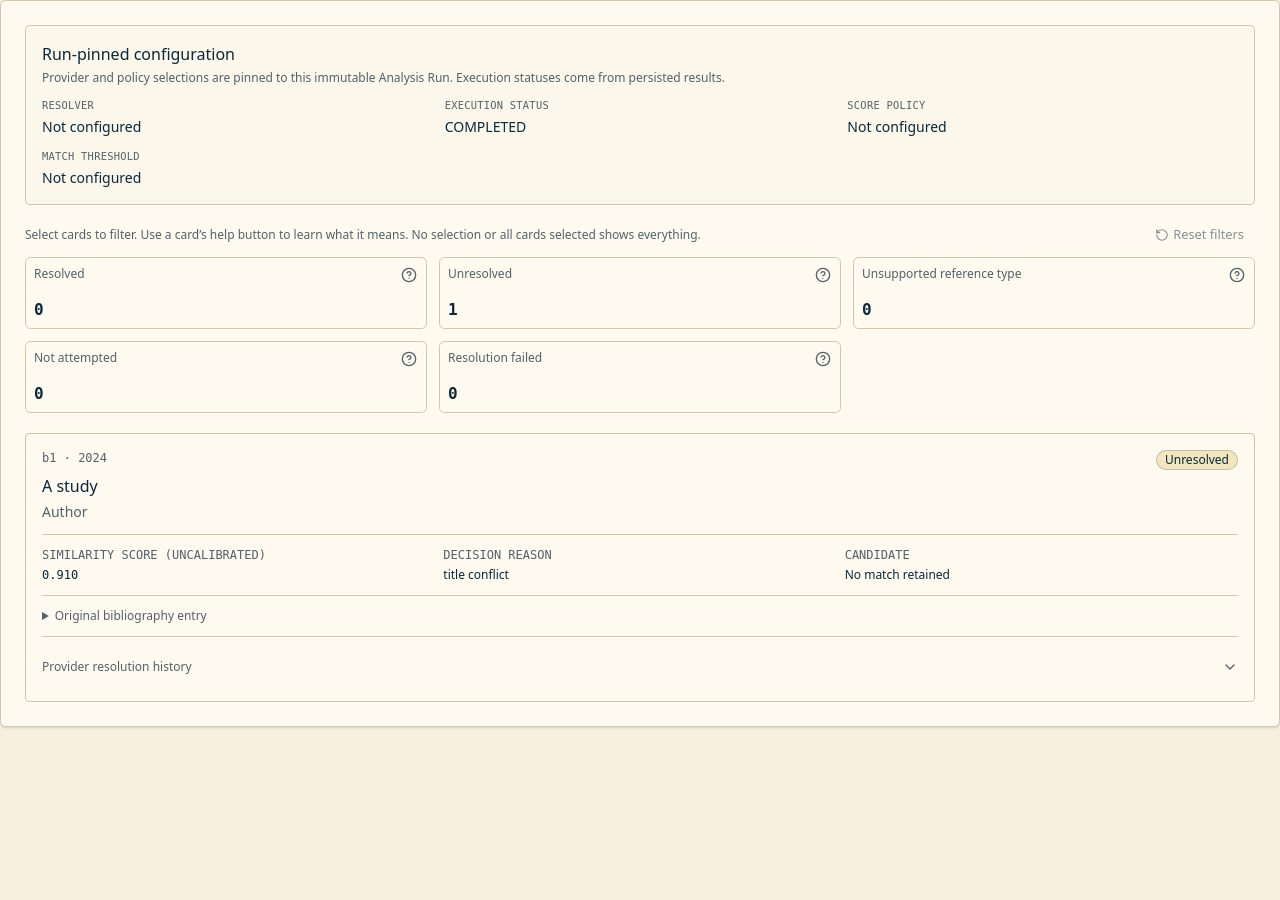
Scenario: Analysis Run bibliography display keys › explains unresolved matches by their recorded cause and labels ranking scores as uncalibrated
The width and height of the screenshot is (1280, 900).
Click the button named "Explain Unresolved" at {"x": 823, "y": 275}, box [809,261,837,289]
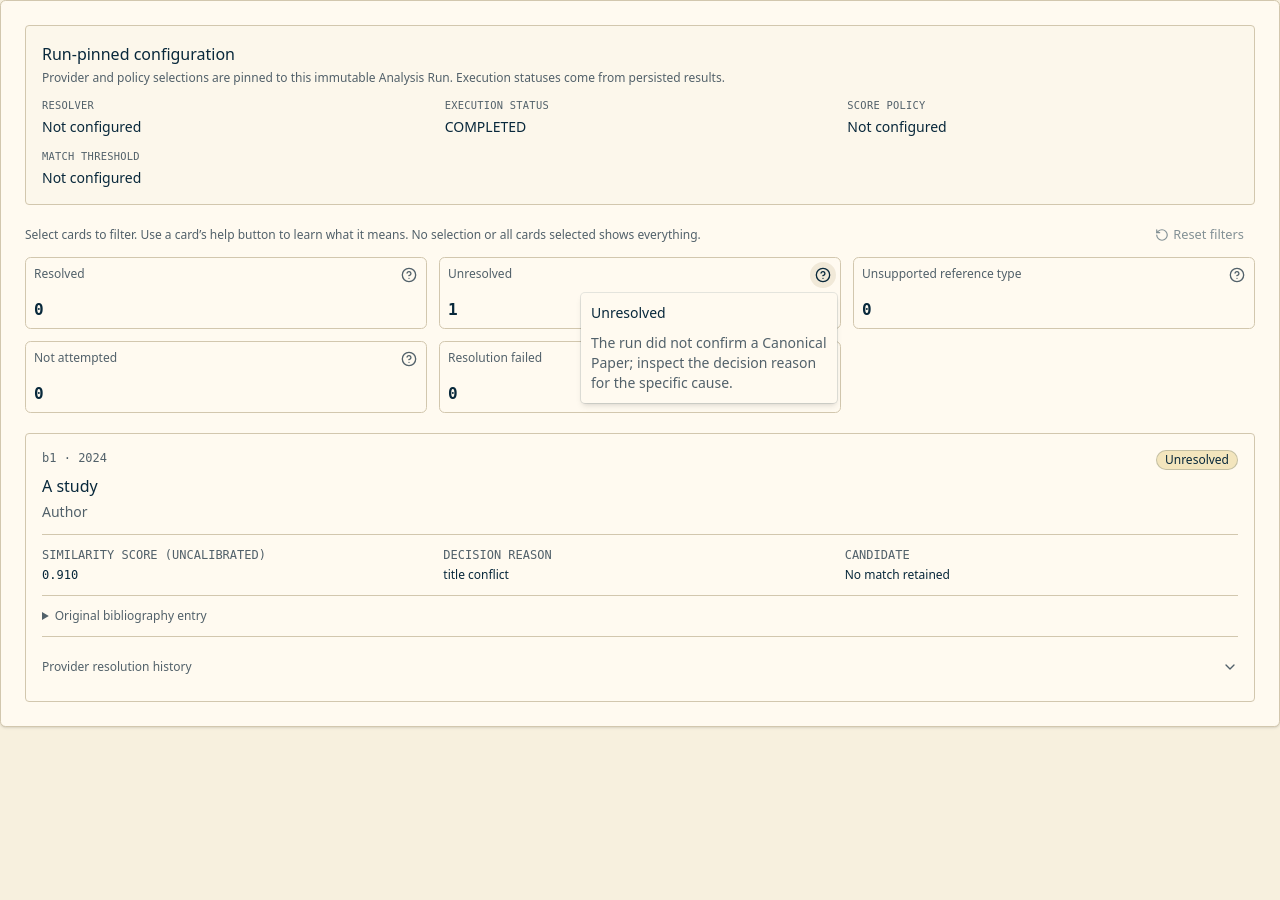
Expected: the text "Similarity score (uncalibrated)" is shown, [42,548,266,562]
Now the text "The run did not confirm a Canonical Paper; inspect the decision reason for the specific cause." is shown, box [591,333,826,392]
